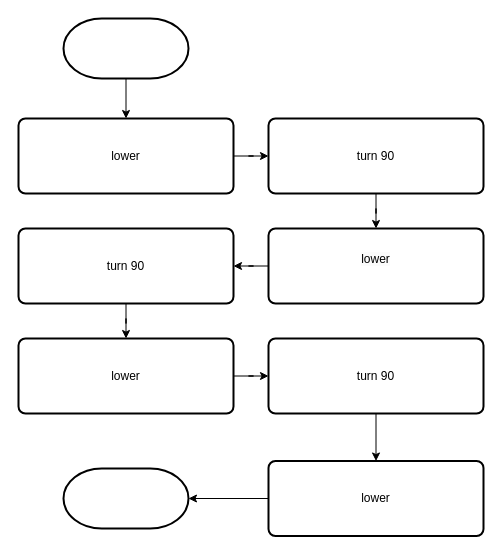
The diagram is 501 pixels wide and 554 high, and some of its shapes have lost their labels. The box of each missing label's shape, as (x1, y1, x2, y2) in pixels:
end: (62, 467, 189, 529)
start: (62, 17, 189, 79)
